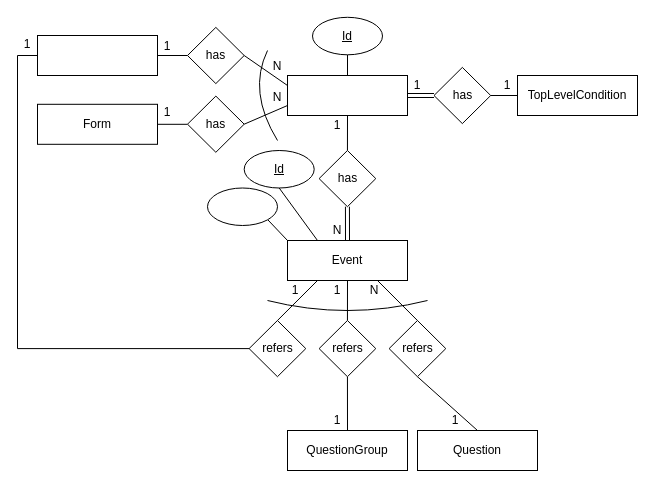
This 663x489 diagram has some shape labels left out. Here are the shapes that lost their labels. From the top down, the centre of each, then its label:
the point at 97,55: Inconsistency
the point at 347,95: Rule
the point at 242,206: EventType
